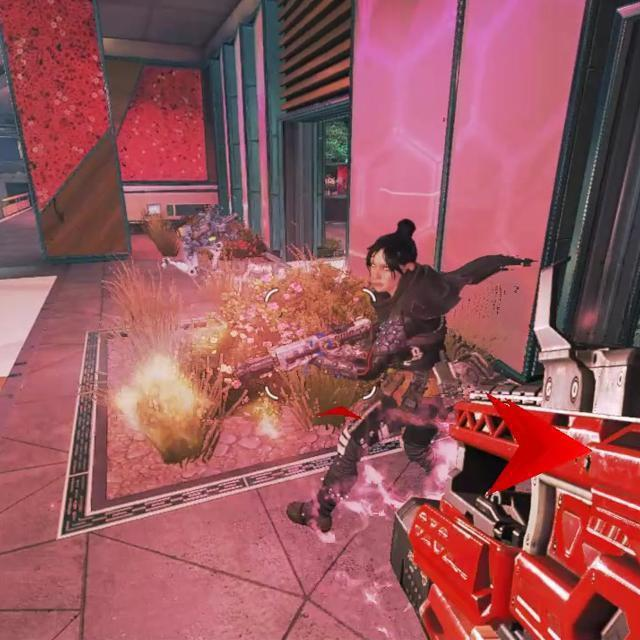avatar: (282, 215, 453, 535), (159, 207, 239, 281)
